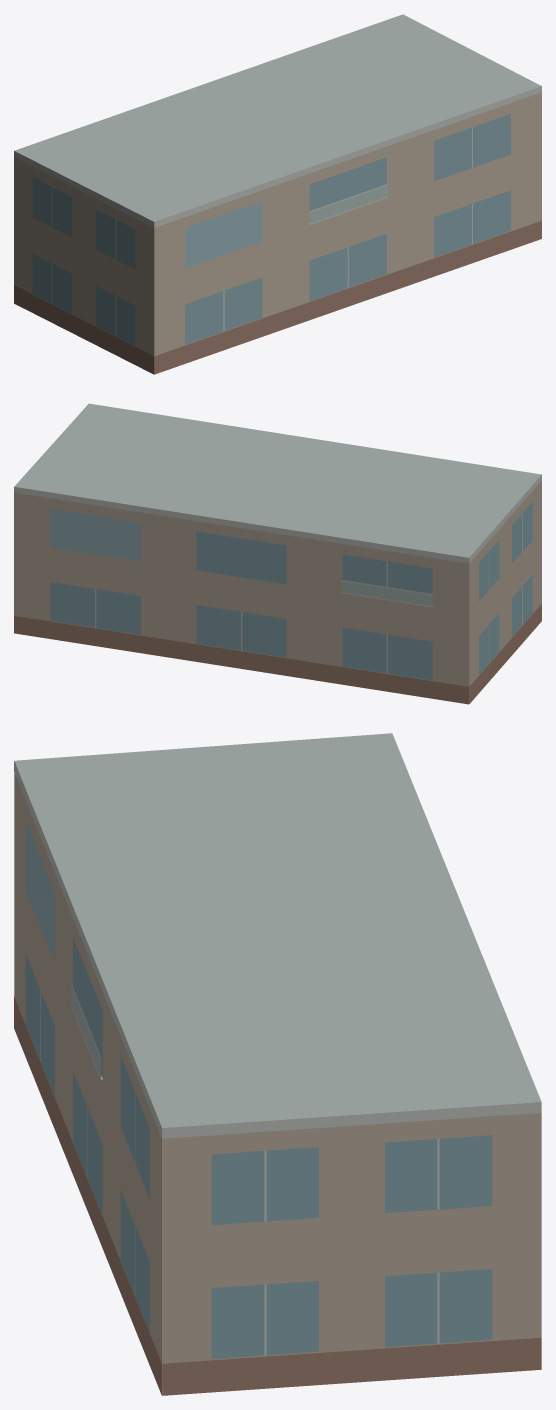
File: survey-upis-32716279.glb
The picture shows the model from 3 angles, top to bottom: view 1: azimuth 30°, elevation 25°; view 2: azimuth 150°, elevation 25°; view 3: azimuth 270°, elevation 25°; orthographic projection. The views are drawn at different scales.
Visible parts, largest first — view 1: survey-upis-32716279.tmp; view 2: survey-upis-32716279.tmp; view 3: survey-upis-32716279.tmp.
Part boxes in pixels (bbox=[...]): survey-upis-32716279.tmp: bbox=[14, 14, 541, 374]; survey-upis-32716279.tmp: bbox=[14, 403, 541, 704]; survey-upis-32716279.tmp: bbox=[14, 733, 541, 1395].
Bounding box in the file's own units: 19.32 × 6.1 × 10.91.
